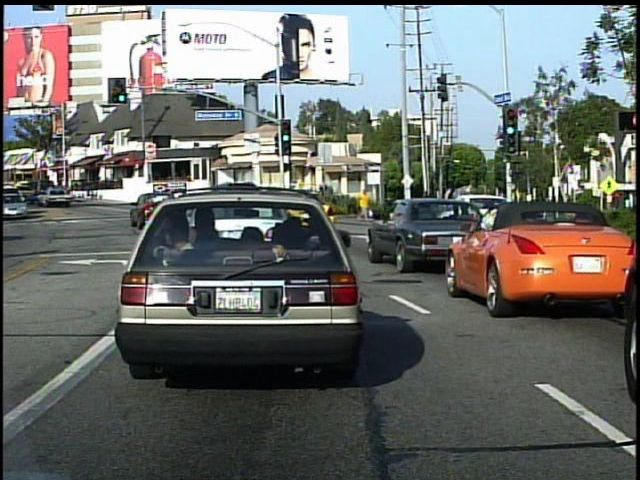person: (420, 186, 444, 233), (356, 185, 374, 225)
